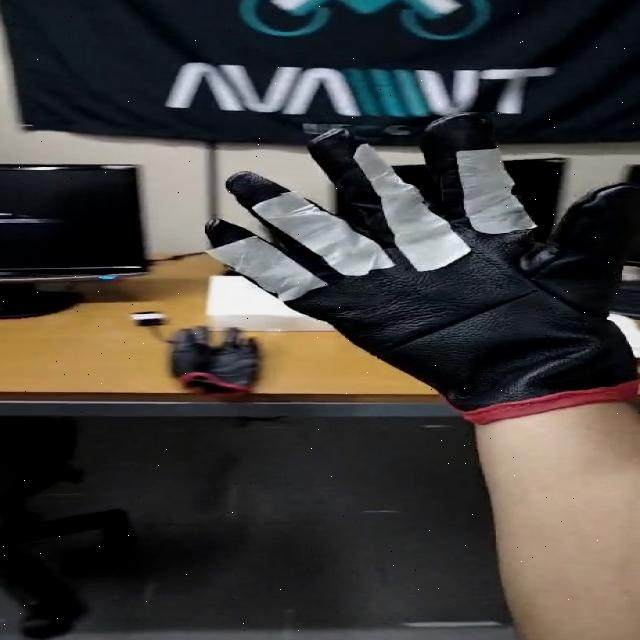Gloves: (191, 112, 640, 405)
